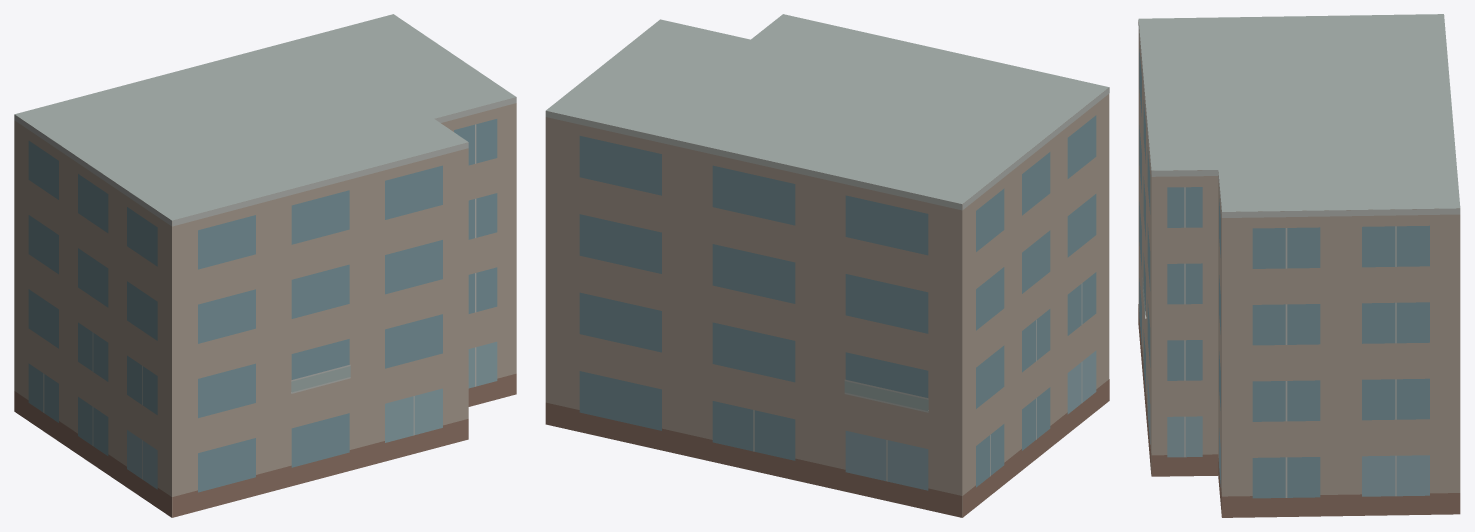
File: residential-9c8ece67-17f3-46d0-b874-b586dfdfeebf.glb
3 views of the same model, side by side, from view 1: azimuth 30°, elevation 25°; view 2: azimuth 150°, elevation 25°; view 3: azimuth 270°, elevation 25° (orthographic). The views are drawn at different scales.
Parts seen in each view (by area): view 1: residential-9c8ece67-17f3-46d0-b874-b586dfdfeebf.tmp; view 2: residential-9c8ece67-17f3-46d0-b874-b586dfdfeebf.tmp; view 3: residential-9c8ece67-17f3-46d0-b874-b586dfdfeebf.tmp.
Boxes of the visible parts, x1,y1,x2,y2 form: residential-9c8ece67-17f3-46d0-b874-b586dfdfeebf.tmp: (14, 14, 516, 517); residential-9c8ece67-17f3-46d0-b874-b586dfdfeebf.tmp: (545, 14, 1109, 517); residential-9c8ece67-17f3-46d0-b874-b586dfdfeebf.tmp: (1138, 14, 1460, 517).
Bounding box in the file's own units: 16.95 × 12.2 × 11.64.
